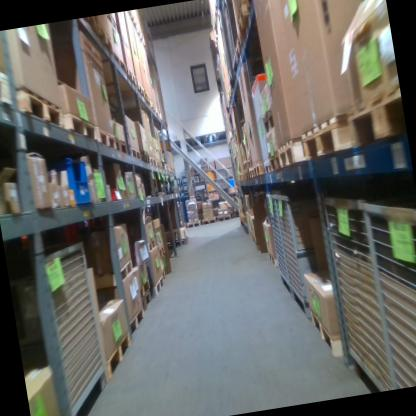pallet: (341, 79, 408, 154), (298, 109, 353, 166), (13, 80, 66, 136), (309, 305, 347, 362), (100, 327, 137, 380), (62, 104, 98, 147), (90, 258, 135, 291), (234, 0, 258, 53), (276, 134, 307, 174), (96, 17, 115, 58), (0, 53, 14, 108), (125, 306, 148, 338), (95, 123, 117, 153), (258, 103, 277, 135), (149, 272, 167, 301), (231, 33, 245, 69), (110, 46, 128, 74), (103, 13, 119, 34), (268, 149, 280, 176), (125, 63, 138, 86), (138, 289, 152, 310), (82, 17, 98, 34), (134, 278, 149, 295), (263, 156, 273, 181), (115, 137, 128, 155), (136, 80, 146, 102), (144, 237, 158, 252), (252, 162, 264, 179), (200, 215, 216, 226), (217, 212, 233, 223), (129, 146, 141, 160), (144, 89, 152, 108), (156, 243, 166, 258), (186, 218, 201, 228), (159, 266, 168, 281), (149, 154, 158, 168), (141, 149, 149, 163), (157, 157, 164, 170), (162, 162, 170, 172)
small_load_carrier: (47, 151, 93, 208)
stillage: (8, 235, 116, 416), (319, 187, 393, 395), (361, 188, 416, 388), (274, 184, 333, 325), (264, 189, 293, 299)
